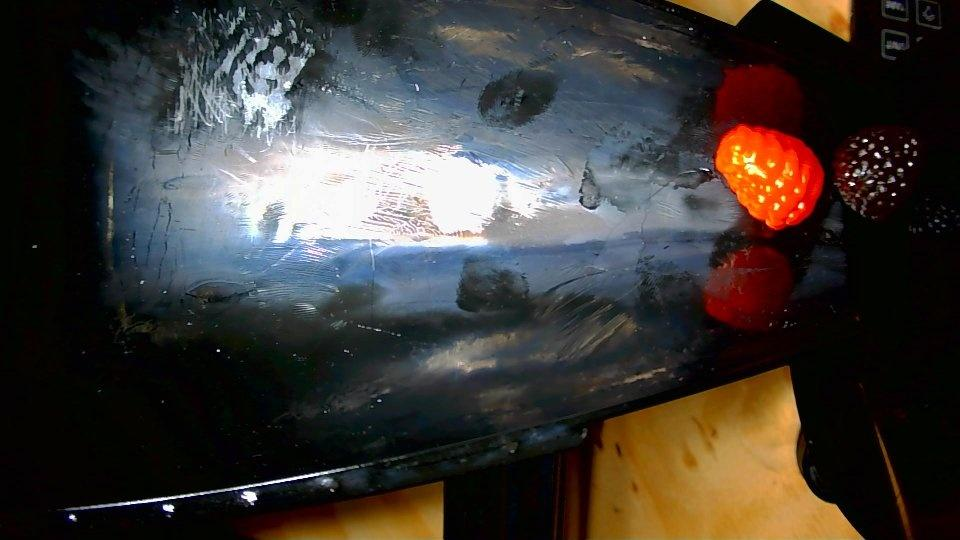berry: (715, 124, 824, 229), (832, 126, 923, 220), (908, 196, 959, 235)
